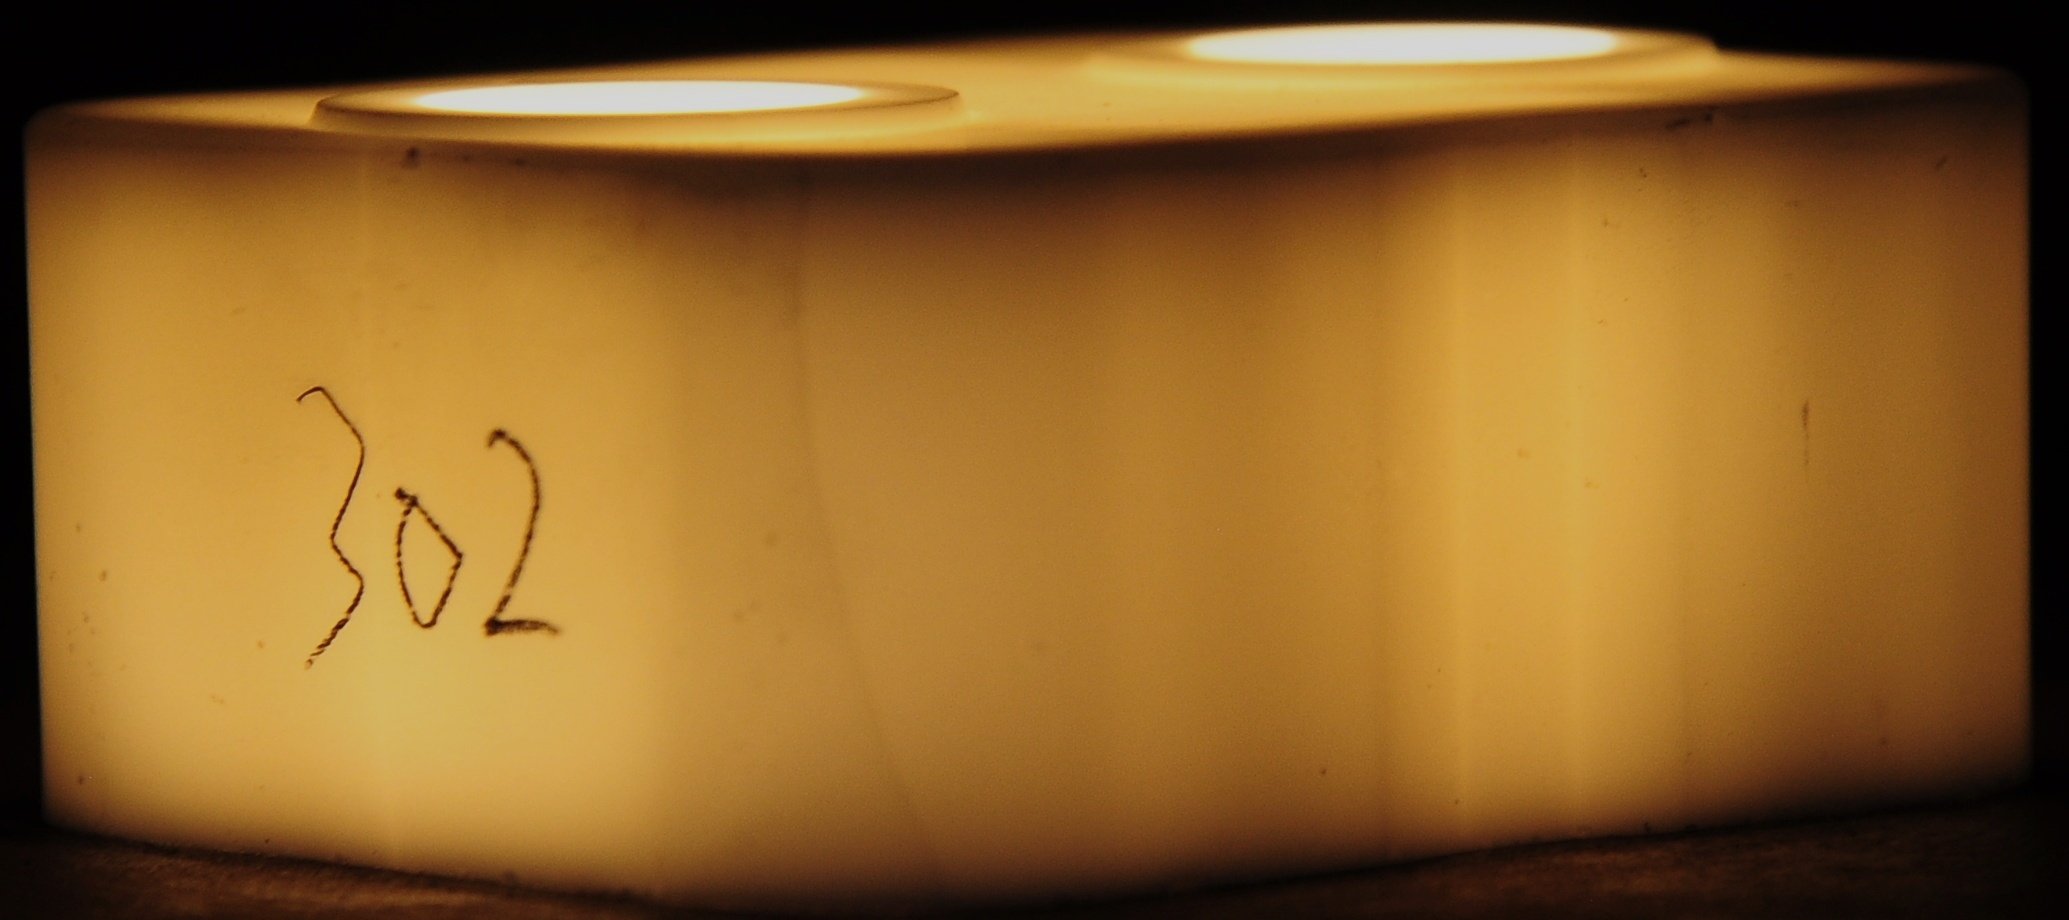flaw: (768, 154, 957, 870)
